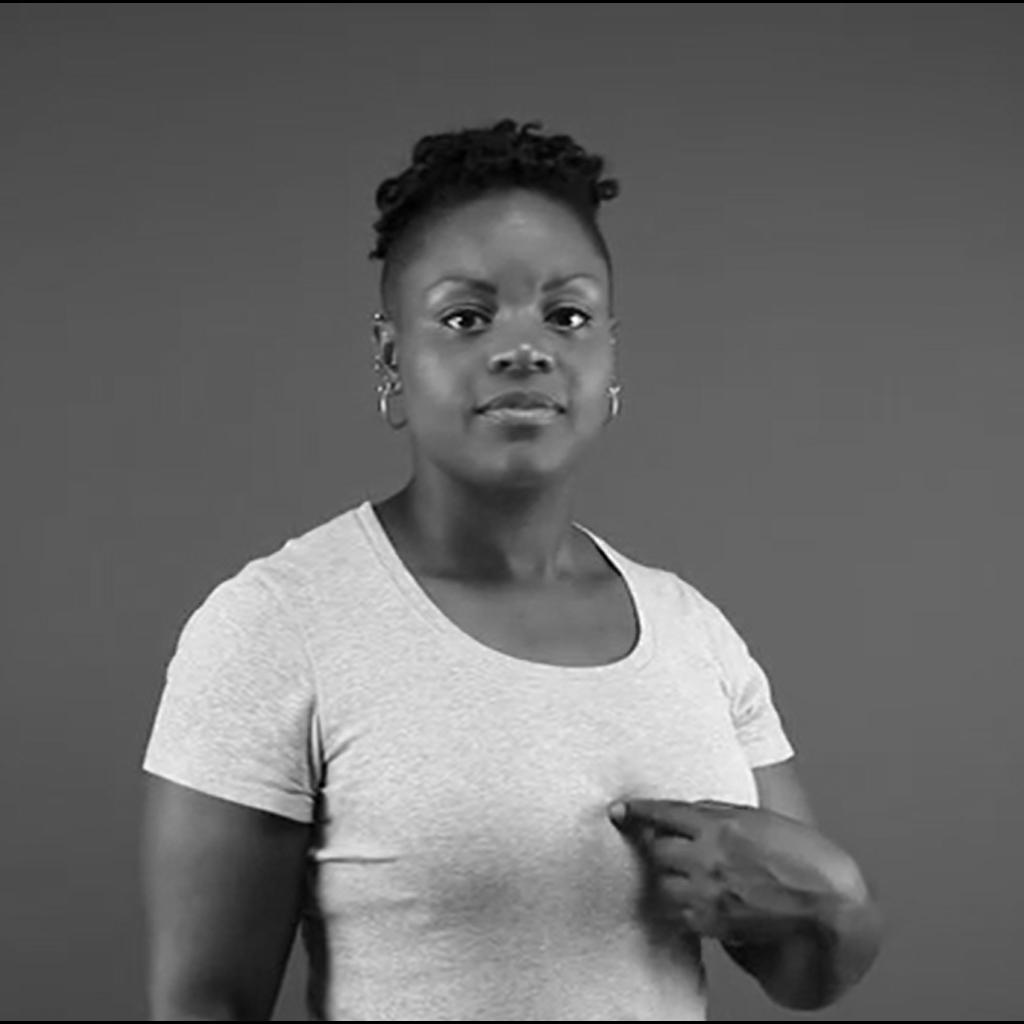I: (609, 800, 821, 936)
